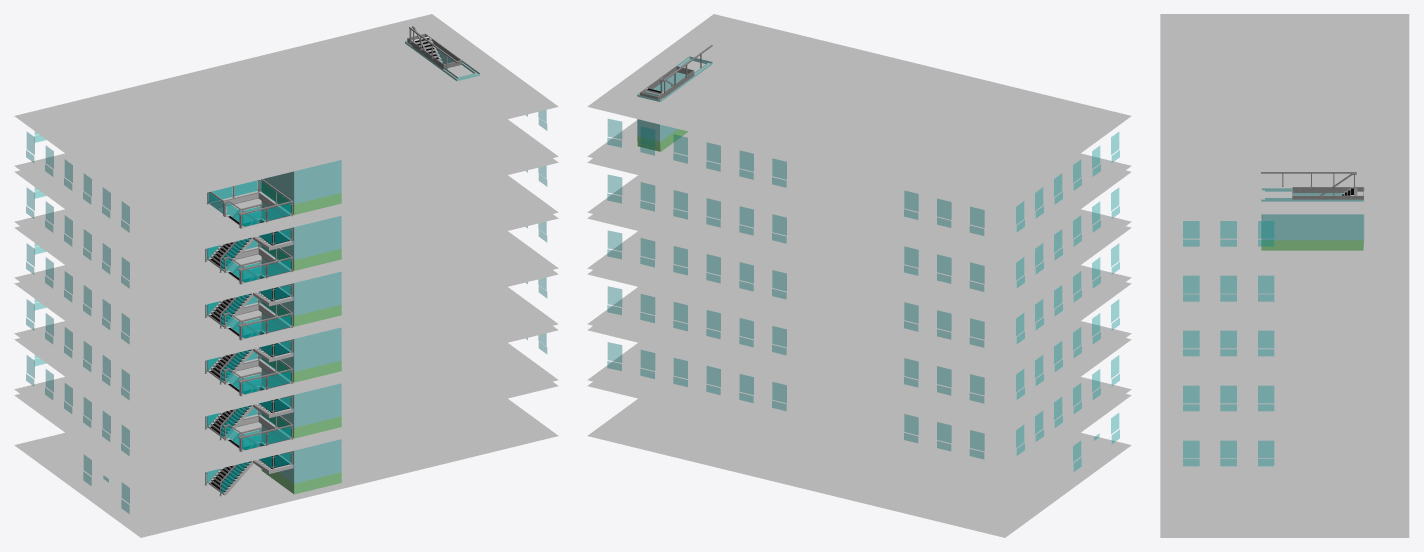
File: SM_Building08_V2_Interior.fbx
3 renders of one model, left to right at view 1: azimuth 30°, elevation 25°; view 2: azimuth 150°, elevation 25°; view 3: azimuth 270°, elevation 25°, orthographic.
Parts seen in each view (by area): view 1: SM_Building08_V2_Interior; view 2: SM_Building08_V2_Interior; view 3: SM_Building08_V2_Interior.
Boxes of the visible parts, bbox=[...] form: SM_Building08_V2_Interior: bbox=[14, 14, 558, 537]; SM_Building08_V2_Interior: bbox=[587, 14, 1131, 537]; SM_Building08_V2_Interior: bbox=[1160, 14, 1409, 537].
Size of the model in its own units: 3172 by 2631 by 1669.
